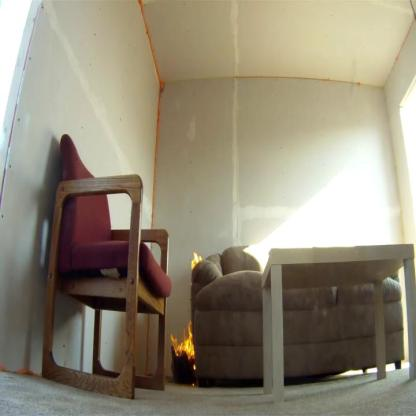fire: (170, 320, 196, 364), (188, 251, 204, 271)
